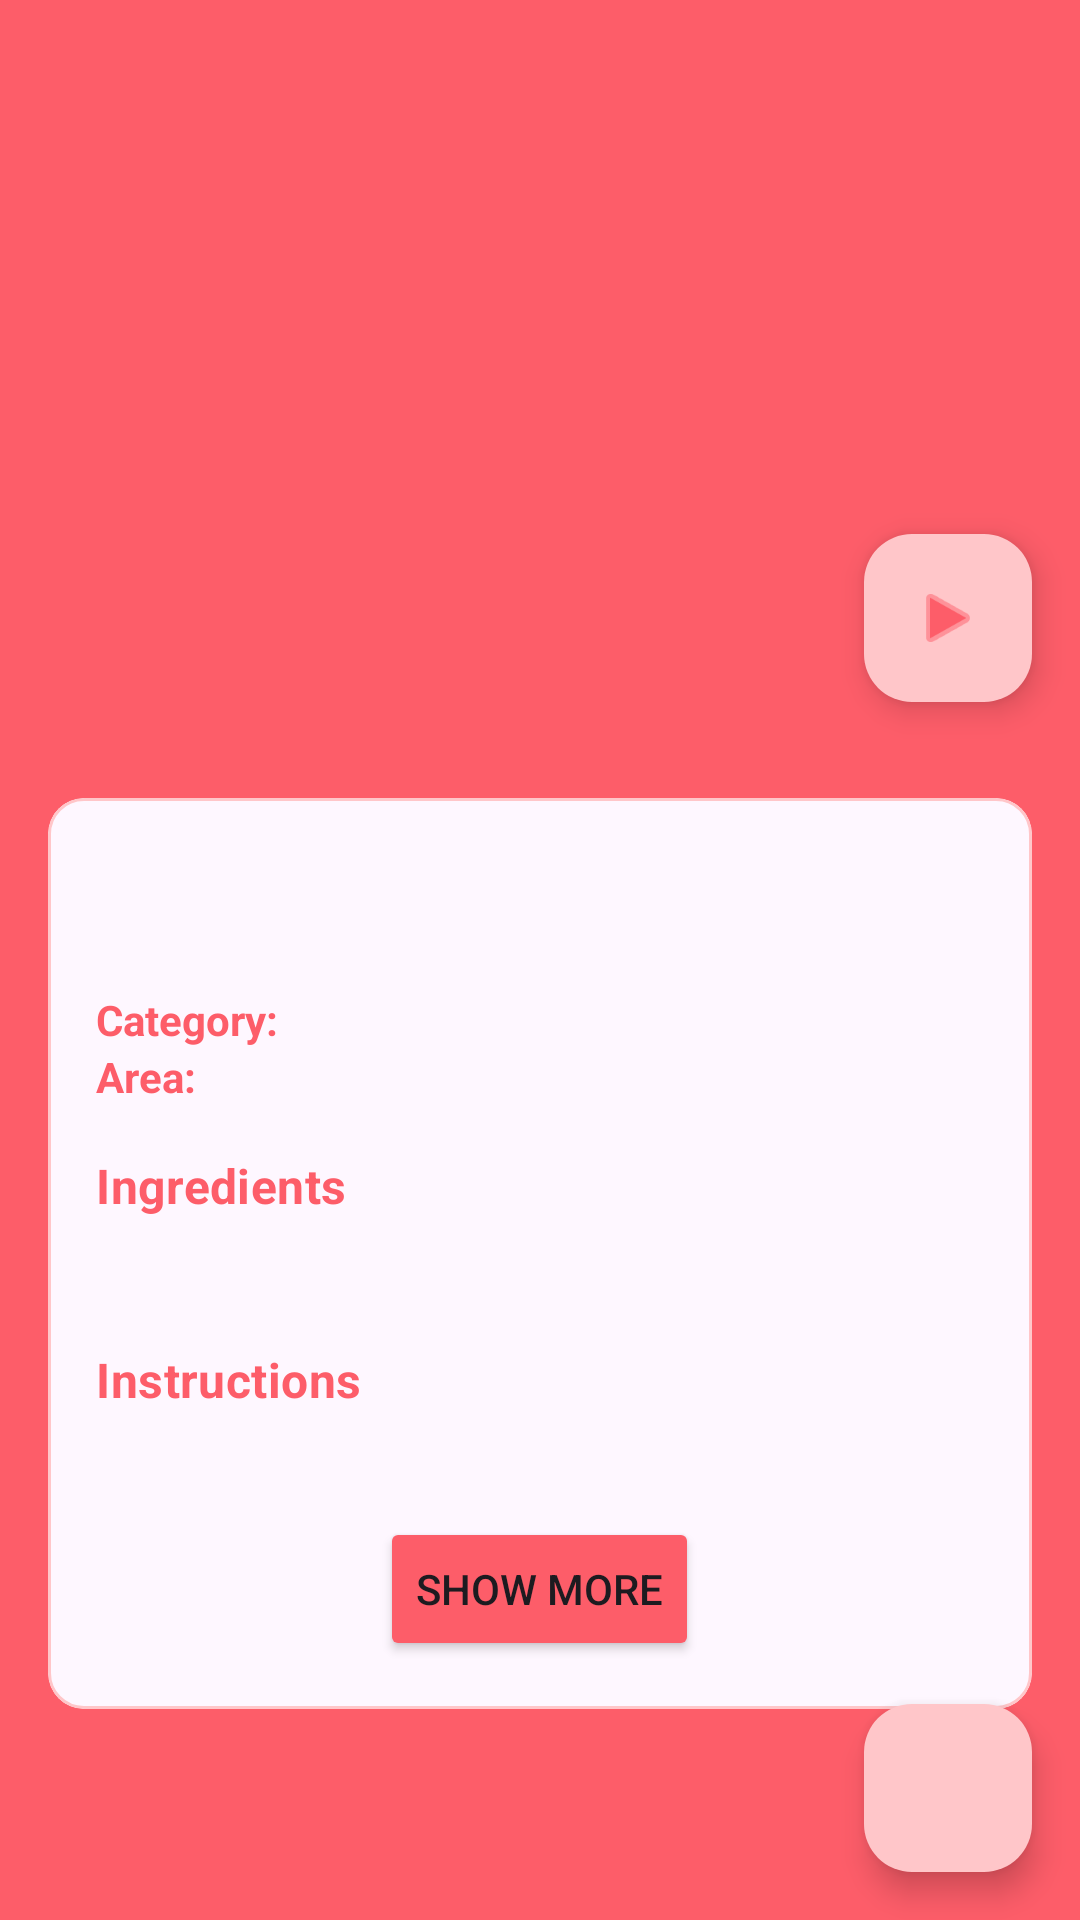

Icons on this 1080 x 1920 Android screen, each with the point to tap as (x=x, y=y):
Play video: (x=948, y=618)
